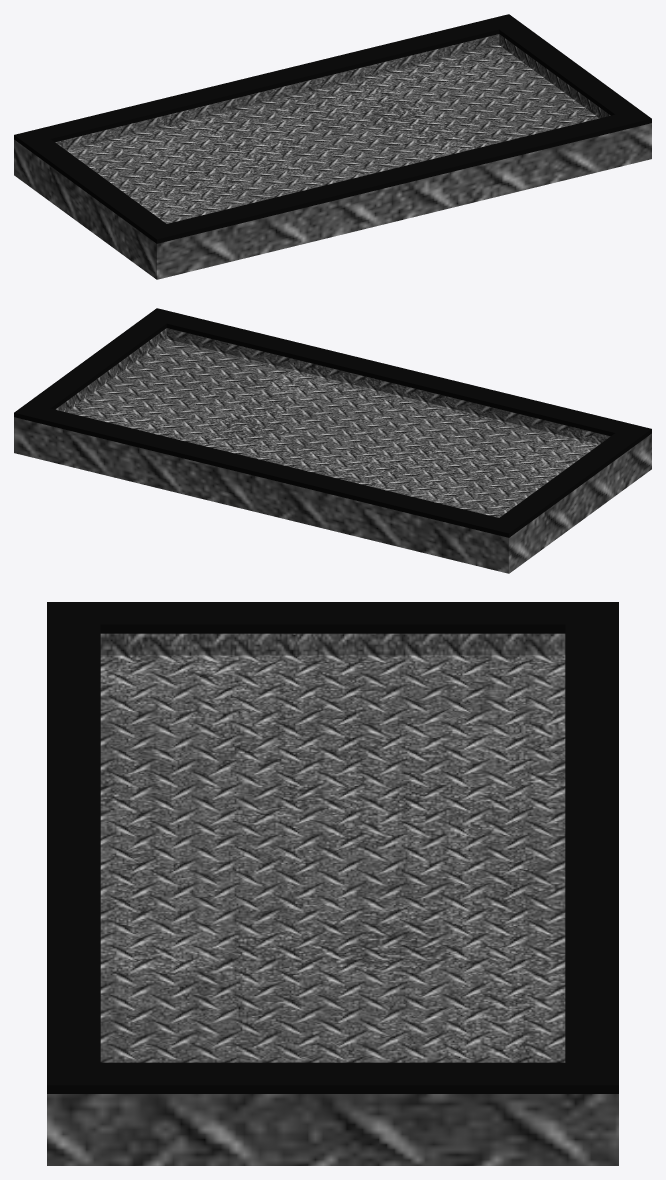
Rendered from Socle.fbx.
The picture shows the model from 3 angles, top to bottom: view 1: azimuth 30°, elevation 25°; view 2: azimuth 150°, elevation 25°; view 3: azimuth 270°, elevation 25°; orthographic projection. The views are drawn at different scales.
Visible parts, largest first — view 1: Plane; view 2: Plane; view 3: Plane.
Boxes of the visible parts, x1,y1,x2,y2 form: Plane: (14,14,651,279); Plane: (14,308,651,573); Plane: (47,602,618,1165).
Bounding box in the file's own units: 600 × 46.7 × 300.
